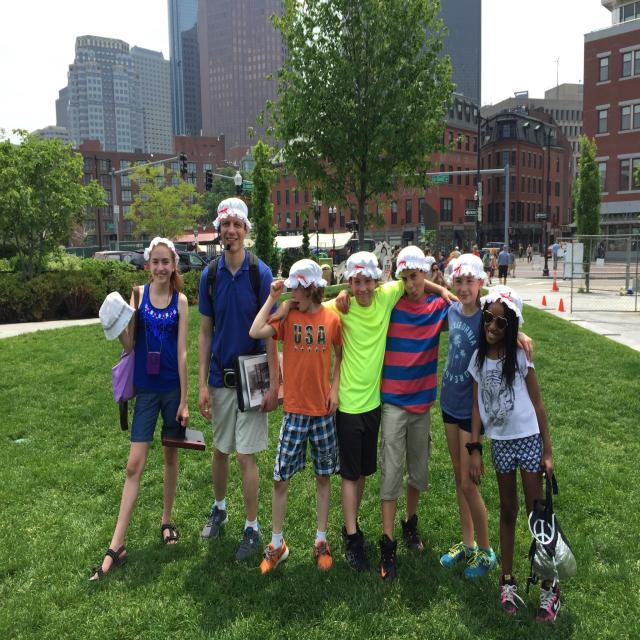body: (262, 248, 467, 582), (380, 244, 534, 582), (464, 282, 580, 626), (86, 237, 190, 582), (248, 258, 344, 577), (197, 196, 280, 563), (438, 252, 499, 580), (426, 262, 452, 290), (496, 244, 511, 286), (422, 247, 440, 280), (608, 237, 640, 253), (390, 244, 401, 282), (483, 248, 493, 288), (506, 248, 517, 279), (488, 248, 496, 284), (320, 263, 332, 286), (551, 240, 560, 270), (448, 252, 458, 276), (438, 252, 446, 278), (598, 238, 606, 260), (483, 252, 493, 269), (562, 249, 567, 281), (492, 243, 498, 266), (471, 245, 481, 258), (526, 244, 532, 264), (518, 243, 524, 262), (475, 243, 482, 258), (454, 246, 462, 258), (596, 239, 601, 258), (346, 247, 351, 258), (564, 239, 570, 247), (459, 250, 464, 257)
